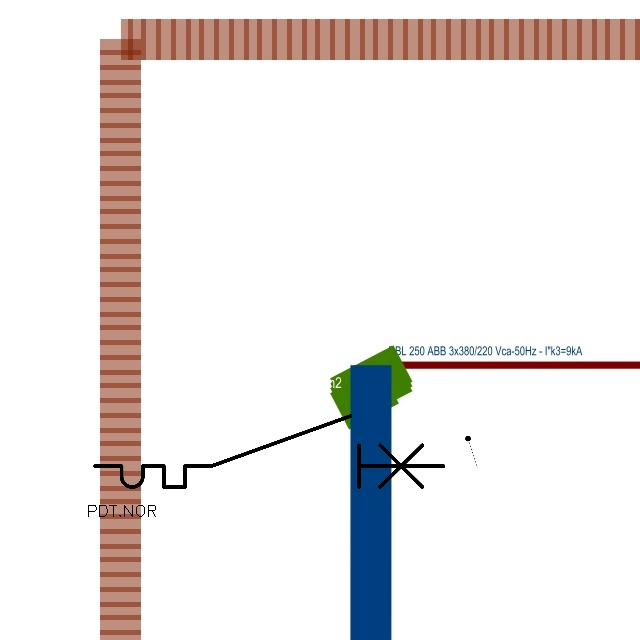interruptor_termomagnetico: (86, 407, 452, 496)
